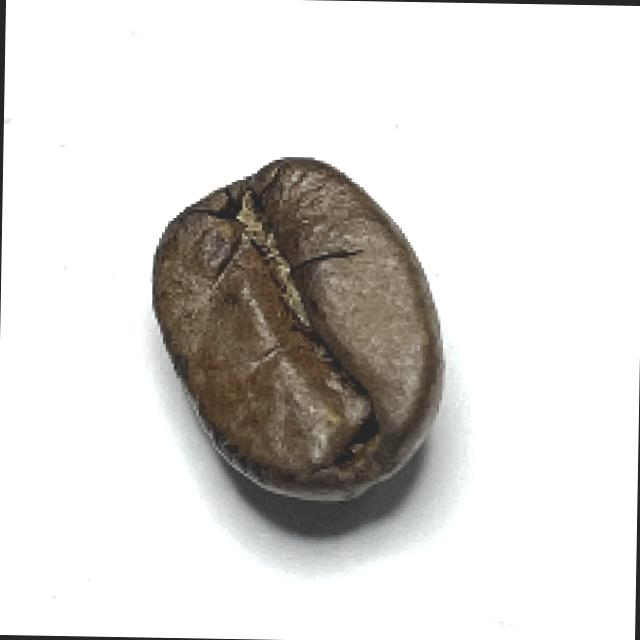bean: (142, 150, 449, 503)
